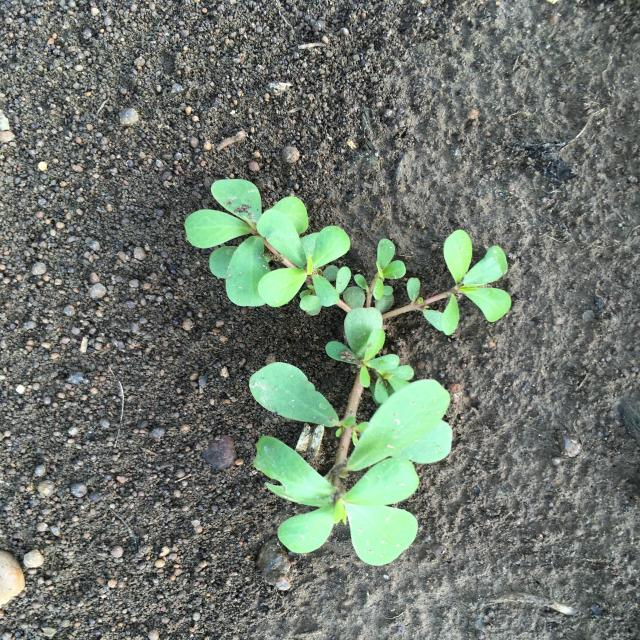Purslane: (185, 179, 511, 566)
